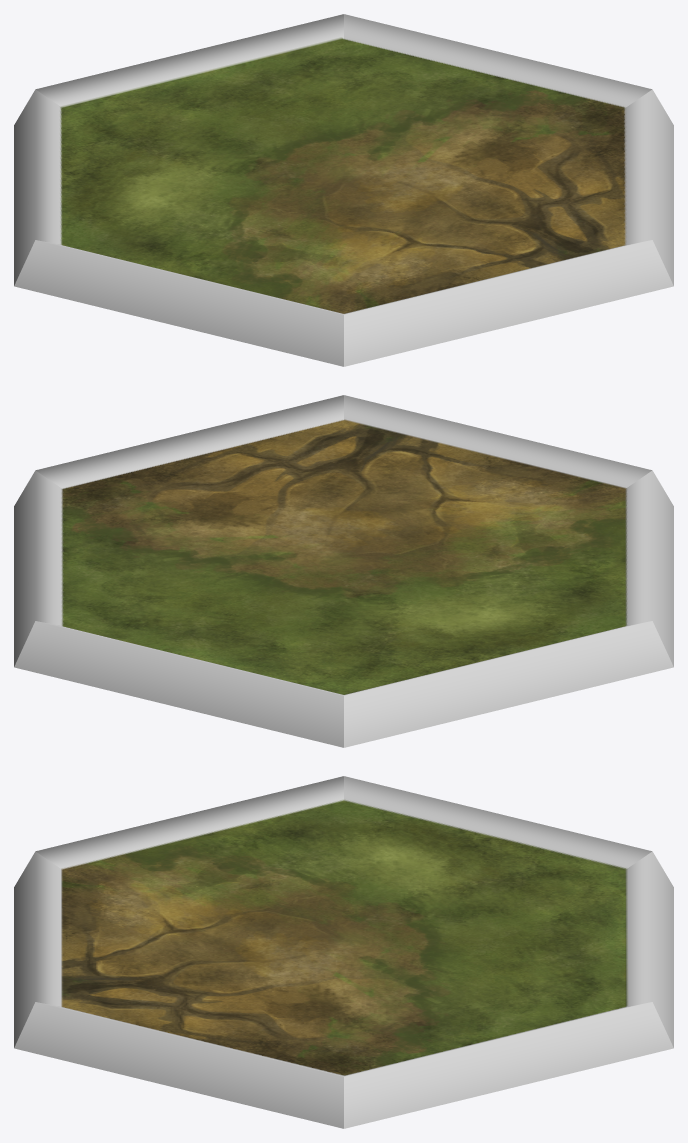
Rendered from HexTerrain2.fbx.
3 views of the same model, one above another, from view 1: azimuth 30°, elevation 25°; view 2: azimuth 150°, elevation 25°; view 3: azimuth 270°, elevation 25° (orthographic).
Visible parts, largest first — view 1: HexTerrain2; view 2: HexTerrain2; view 3: HexTerrain2.
Boxes of the visible parts, x1,y1,x2,y2 form: HexTerrain2: (14, 14, 673, 366); HexTerrain2: (14, 395, 673, 747); HexTerrain2: (14, 776, 673, 1128).
Bounding box in the file's own units: 2 × 0.1195 × 1.73.
1 material, 1 textured.
